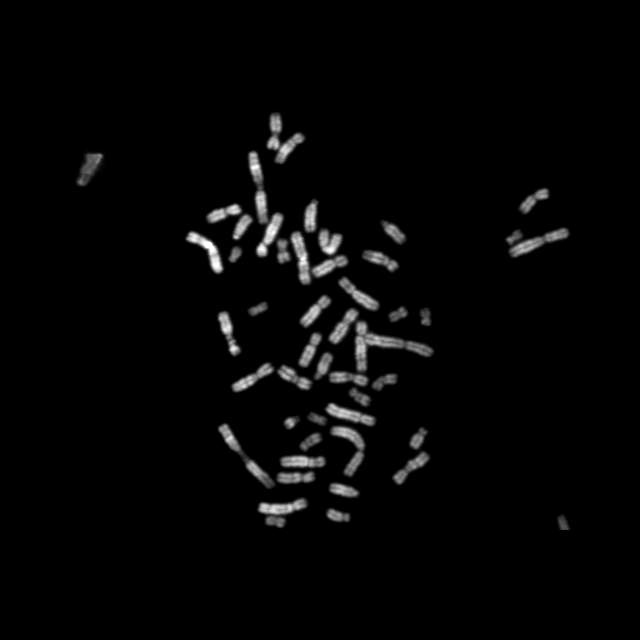chromosome: (217, 423, 275, 489), (330, 425, 366, 477), (510, 227, 570, 257), (364, 333, 434, 357), (185, 230, 223, 274), (246, 150, 268, 223), (392, 450, 432, 486), (338, 278, 380, 310), (232, 363, 274, 392), (326, 402, 376, 426), (258, 213, 284, 257), (328, 308, 358, 344), (291, 232, 311, 284), (218, 310, 240, 356), (301, 295, 331, 327), (275, 132, 305, 164), (362, 248, 398, 274), (258, 498, 308, 516), (278, 364, 310, 391), (311, 254, 347, 276), (520, 187, 548, 213), (206, 203, 240, 223), (300, 332, 320, 366), (280, 454, 326, 468), (318, 228, 342, 254), (265, 112, 281, 150), (355, 322, 367, 372), (275, 471, 317, 485), (382, 220, 406, 243), (329, 372, 366, 386), (328, 482, 360, 498), (314, 352, 332, 380), (232, 216, 252, 240), (373, 373, 397, 392), (304, 199, 318, 231), (300, 432, 322, 452), (349, 388, 371, 406), (410, 428, 428, 450), (389, 306, 409, 324), (326, 508, 350, 522), (276, 240, 290, 262), (248, 302, 268, 316), (418, 308, 432, 328), (265, 515, 285, 529), (228, 247, 244, 263), (284, 414, 300, 430), (308, 413, 326, 427), (507, 230, 521, 242)
